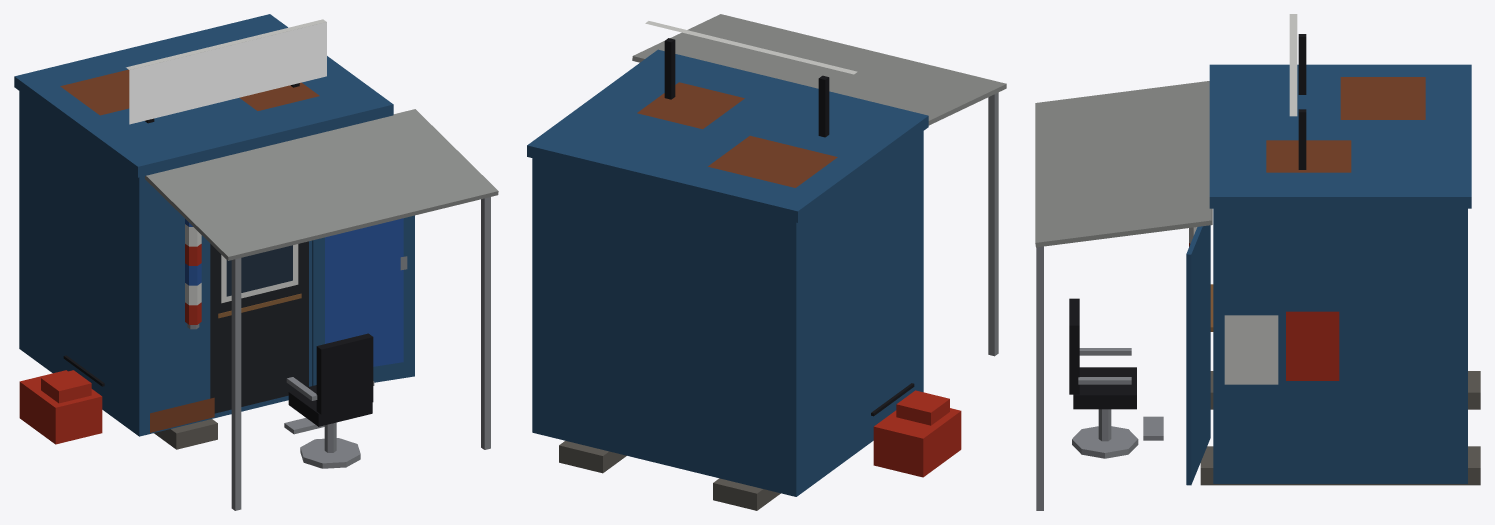
Rendered from shopfront_barber-kiosk.a8f5c4e1de8c.glb.
3 renders of one model, left to right at view 1: azimuth 30°, elevation 25°; view 2: azimuth 150°, elevation 25°; view 3: azimuth 270°, elevation 25°, orthographic. The views are drawn at different scales.
Visible parts, largest first — view 1: body; view 2: body; view 3: body.
Part boxes in pixels (x1,y1,x2,y2): body: (14, 14, 498, 510); body: (527, 14, 1006, 510); body: (1035, 14, 1480, 510).
Bounding box in the file's own units: 3.22 × 3.22 × 3.5.
